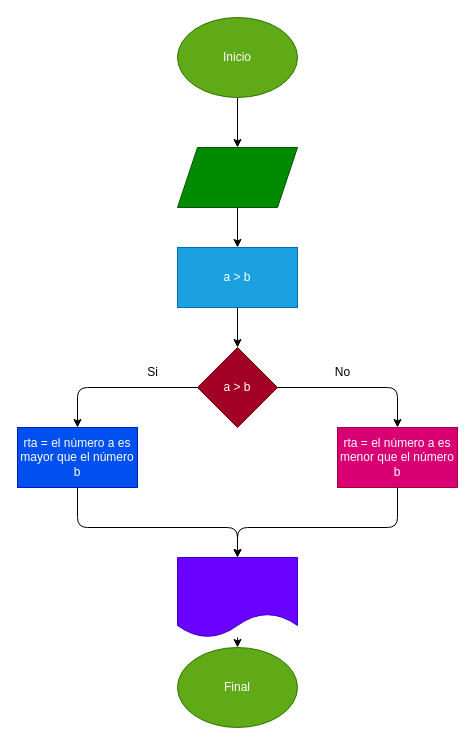
The diagram is 475 pixels wide and 745 high, and some of its shapes have lost their labels. Here are the shapes that lost their labels. From the top down, the centre of each, then its label:
the point at 237,177: a b
the point at 237,597: rta
